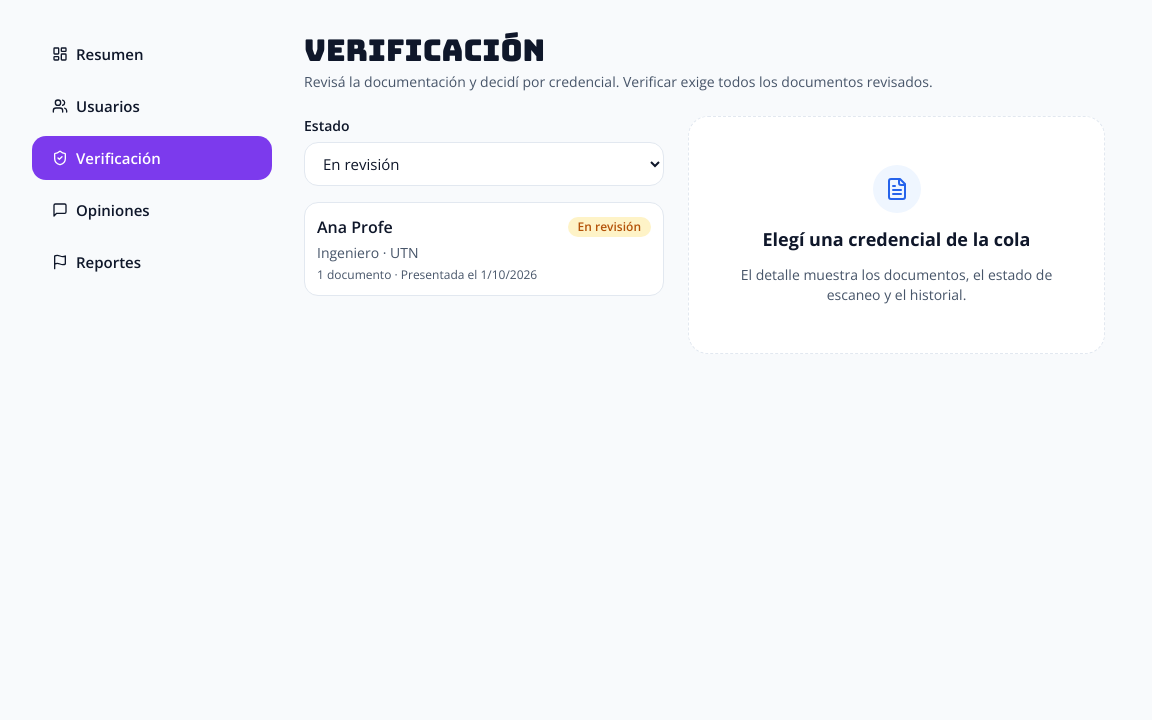
AdminVerificationsPage › shows the queue and the detail with the scan status
Click the button "Ana Profe" at {"x": 355, "y": 227}, box [304,202,664,296]
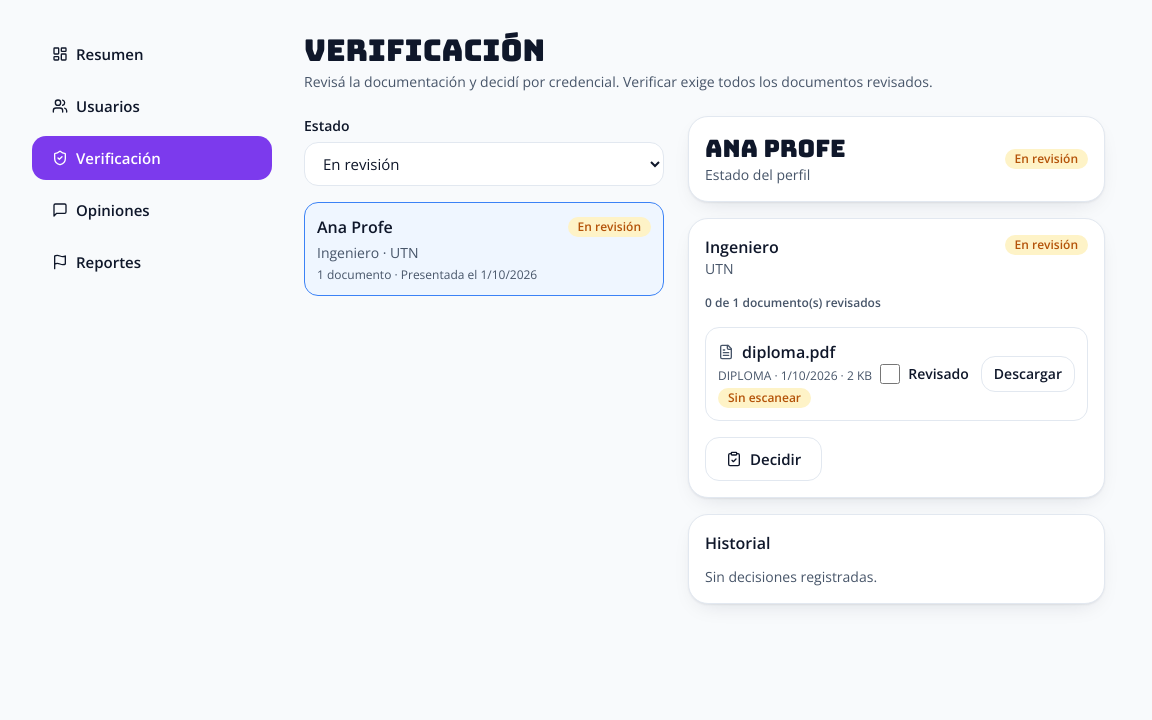
expect the text "diploma.pdf" is shown: met, box [718,341,835,363]
expect the text "Sin escanear" is shown: met, box [718,388,811,408]
expect the text "0 de 1 documento(s) revisados" is shown: met, box [705,294,881,311]
